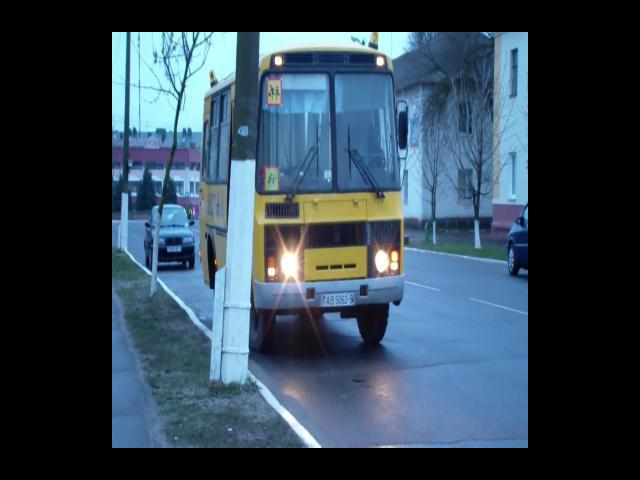bus: (196, 45, 411, 375)
car: (143, 198, 198, 271), (504, 203, 528, 274)
